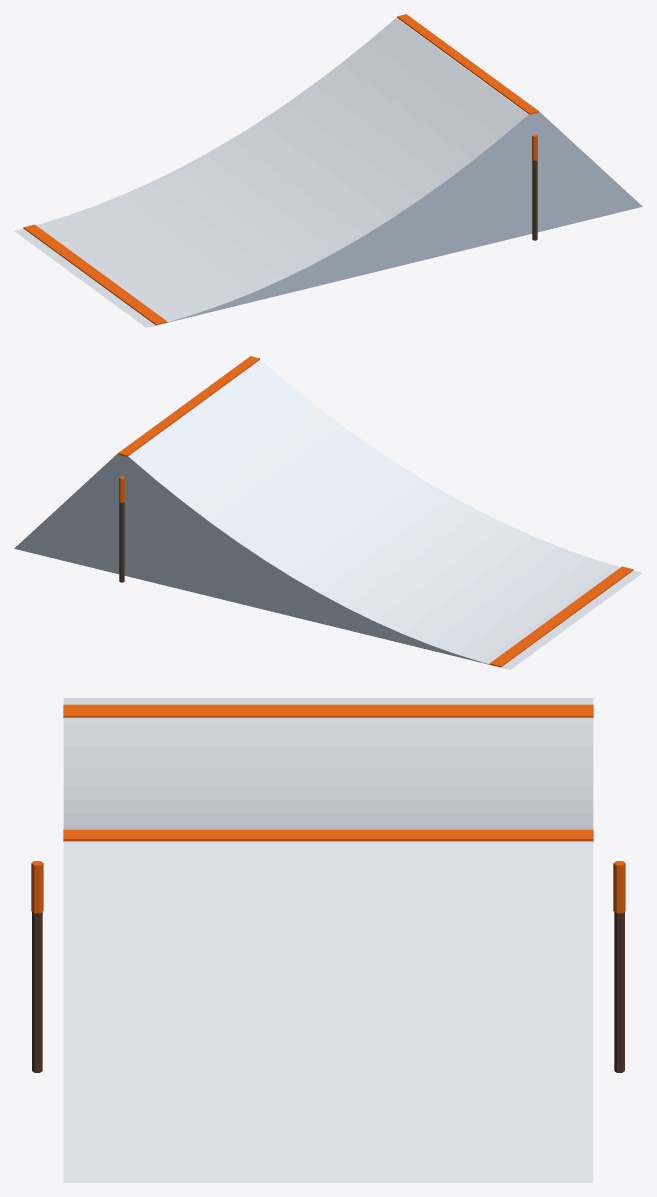
Rendered from kicker_big.obj.
3 renders of one model, top to bottom at view 1: azimuth 30°, elevation 25°; view 2: azimuth 150°, elevation 25°; view 3: azimuth 270°, elevation 25°, orthographic. The views are drawn at different scales.
Visible parts, largest first — view 1: kicker_big; view 2: kicker_big; view 3: kicker_big.
Boxes of the visible parts, x1=… form: kicker_big: x1=14, y1=14, x2=642, y2=327; kicker_big: x1=14, y1=356, x2=642, y2=669; kicker_big: x1=31, y1=698, x2=625, y2=1182.
Bounding box in the file's own units: 26 × 6.06 × 13.48.
Materials: 1 (1 with a texture image).
